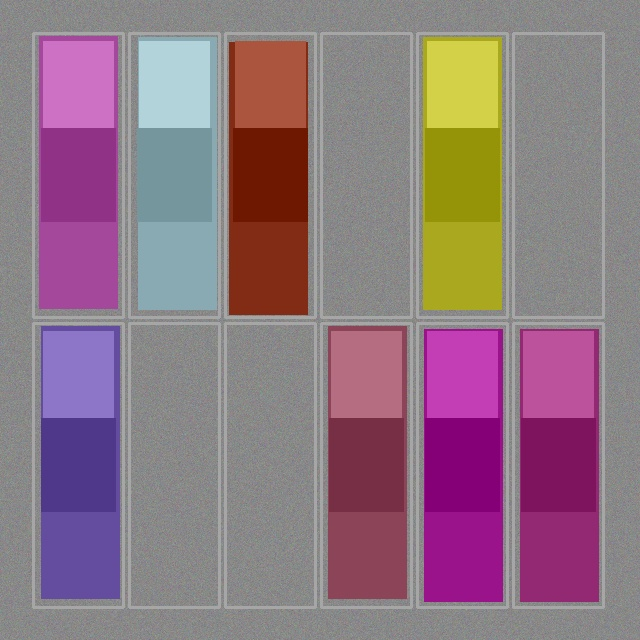space-empty: (323, 35, 409, 315), (515, 35, 601, 315), (131, 325, 217, 605), (227, 325, 313, 605)
space-occupied: (35, 35, 121, 315), (131, 35, 217, 315), (227, 35, 313, 315), (419, 35, 505, 315), (35, 325, 121, 605), (323, 325, 409, 605), (419, 325, 505, 605), (515, 325, 601, 605)
